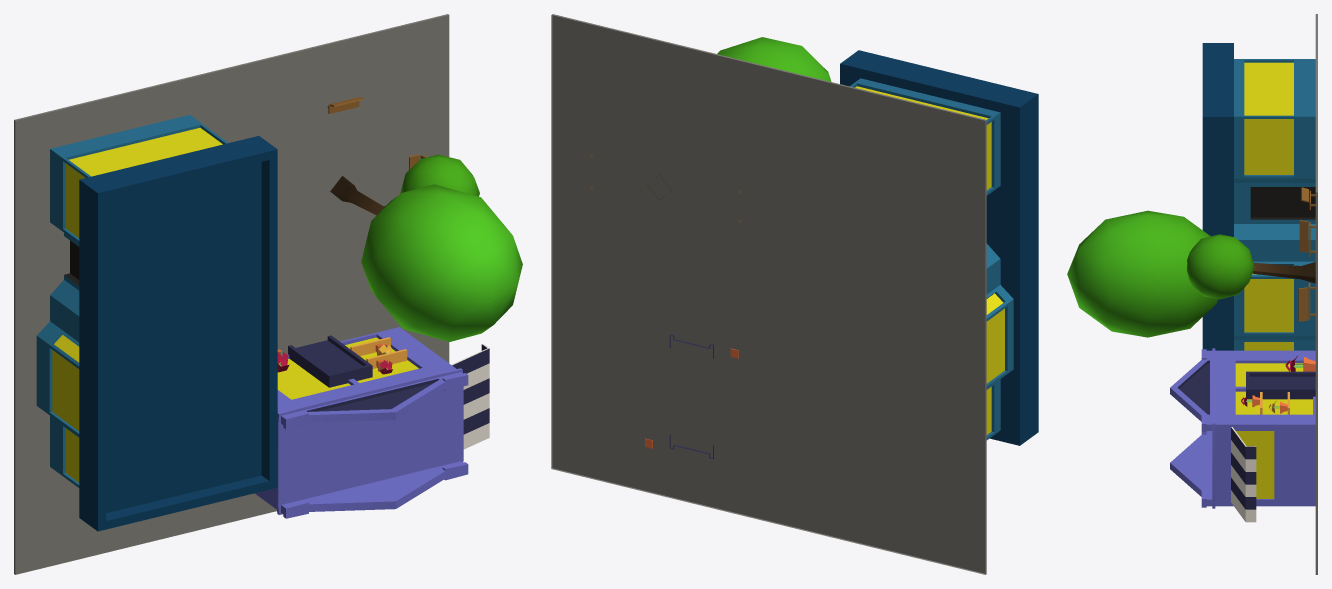
Rendered from FloristAndBakery_03.fbx.
3 renders of one model, left to right at view 1: azimuth 30°, elevation 25°; view 2: azimuth 150°, elevation 25°; view 3: azimuth 270°, elevation 25°, orthographic. The views are drawn at different scales.
Visible parts, largest first — view 1: FloristAndBakery_03; view 2: FloristAndBakery_03; view 3: FloristAndBakery_03.
Part boxes in pixels (bbox=[...]): FloristAndBakery_03: bbox=[14, 14, 522, 574]; FloristAndBakery_03: bbox=[551, 14, 1038, 574]; FloristAndBakery_03: bbox=[1067, 14, 1317, 574].
Bounding box in the file's own units: 200 × 200 × 119.
